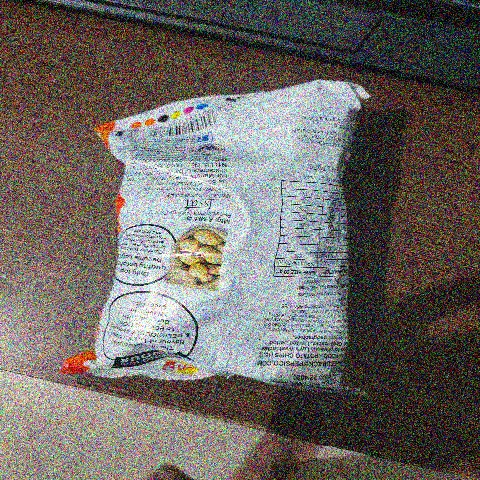lays_orange_pack: (65, 82, 378, 407)
